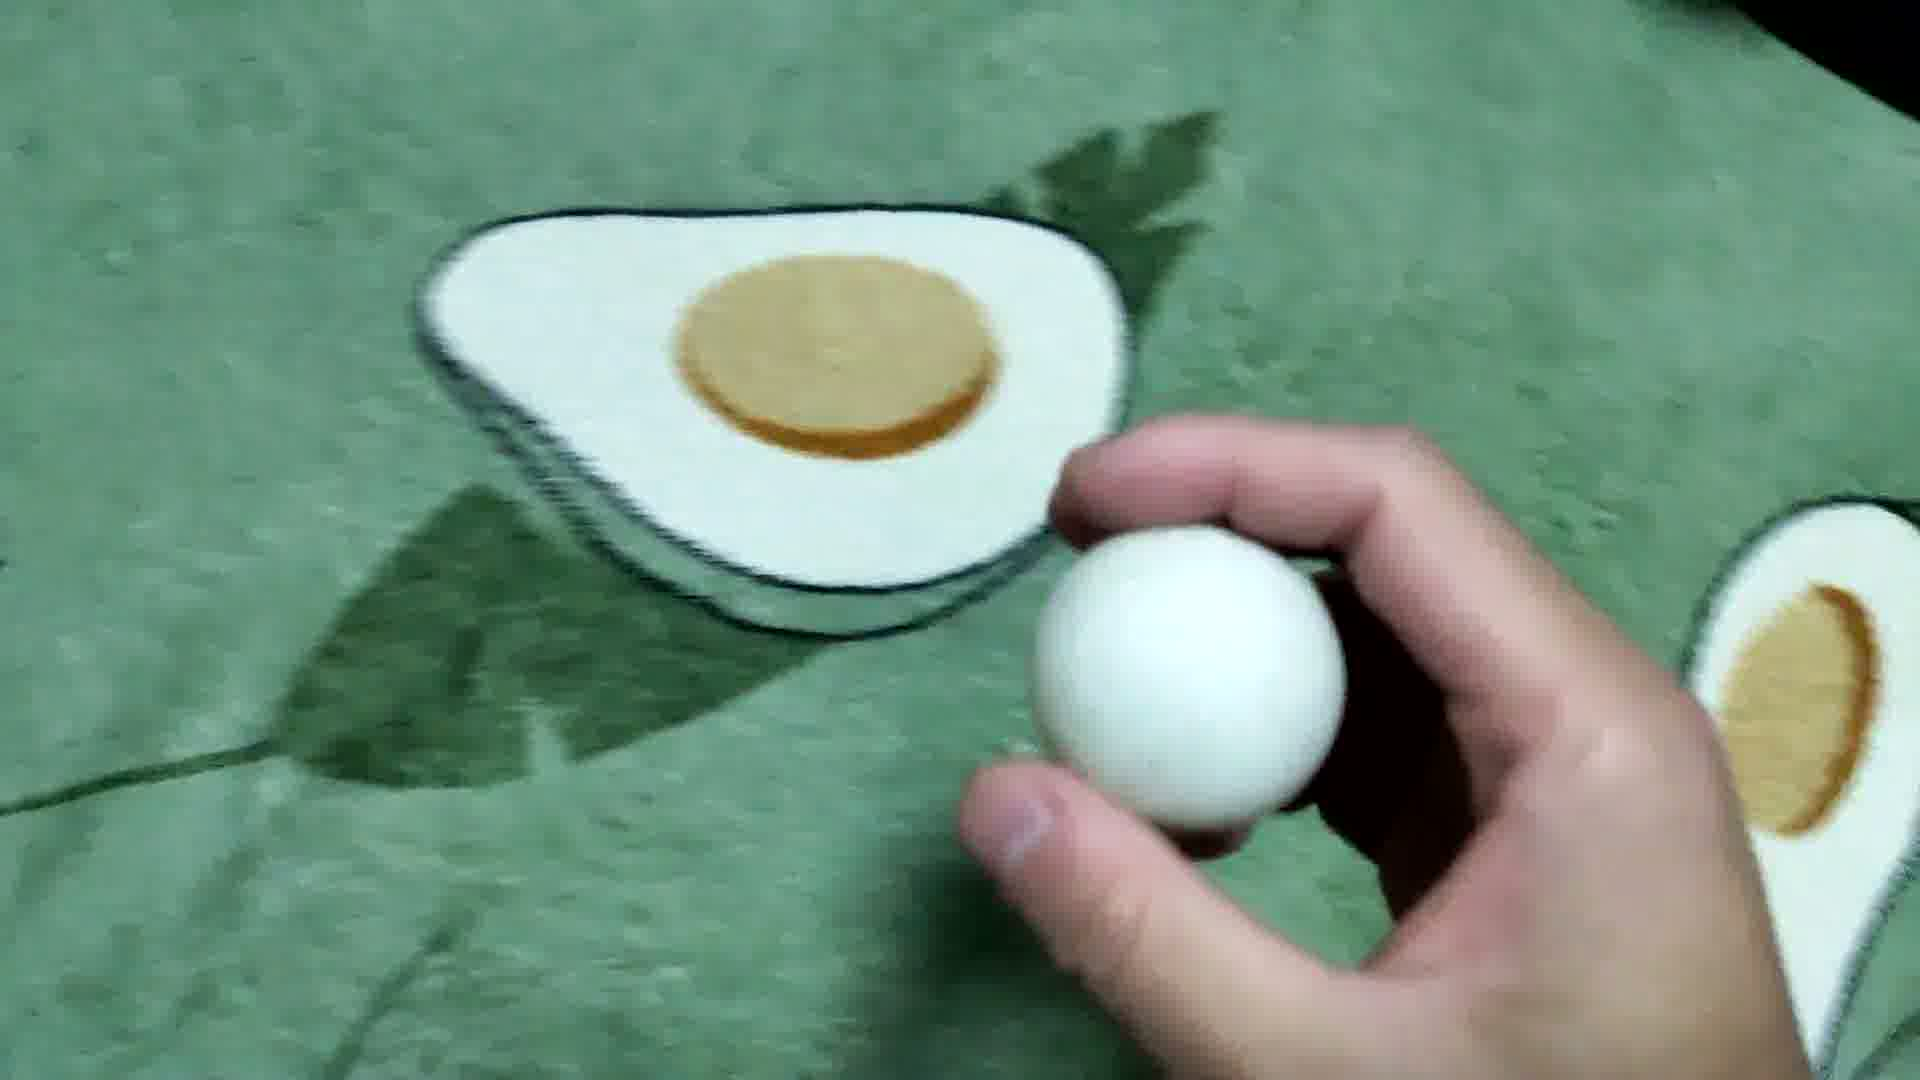Ball: (1038, 521, 1342, 829)
